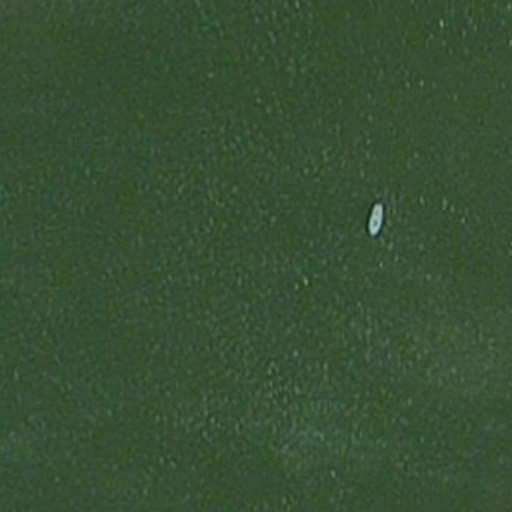ship: (365, 201, 387, 239)
